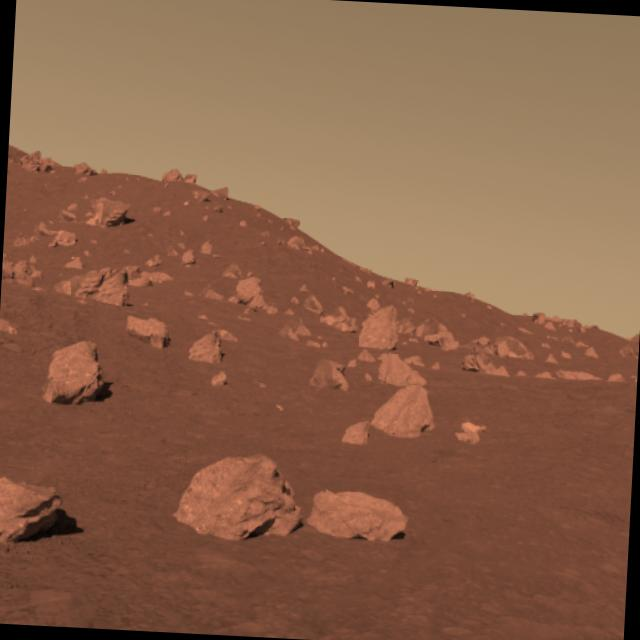rock: (173, 444, 307, 548), (302, 480, 414, 552), (37, 338, 110, 412), (0, 478, 68, 544), (374, 378, 436, 445), (374, 352, 431, 388), (122, 313, 174, 352), (360, 300, 400, 350), (90, 266, 133, 308), (86, 194, 136, 230), (306, 357, 350, 394), (188, 328, 225, 365), (495, 332, 535, 361)
